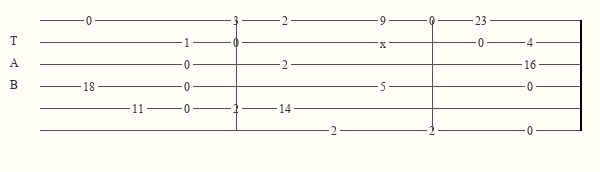0: (86, 14, 96, 27), (184, 58, 194, 71), (184, 80, 194, 93), (184, 102, 194, 115), (233, 36, 243, 49), (429, 14, 439, 27), (478, 36, 488, 49), (527, 80, 537, 93), (527, 124, 537, 137)
1: (184, 36, 194, 49)
11: (132, 102, 148, 115)
14: (279, 102, 295, 115)
16: (524, 58, 540, 71)
18: (83, 80, 99, 93)
2: (233, 102, 243, 115), (282, 58, 292, 71), (282, 14, 292, 27), (331, 124, 341, 137), (429, 124, 439, 137)
23: (475, 14, 491, 27)
3: (233, 14, 243, 27)
4: (527, 36, 537, 49)
5: (380, 80, 390, 93)
9: (380, 14, 390, 27)
x: (380, 37, 390, 47)
